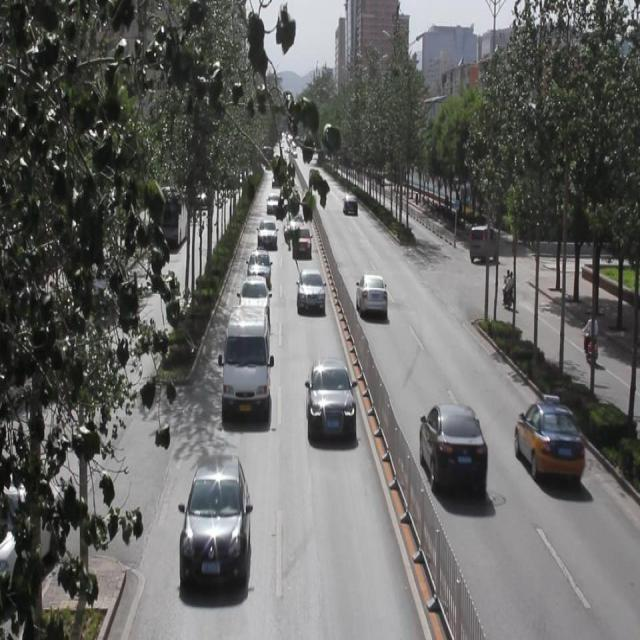car: (179, 454, 248, 588), (418, 401, 484, 496), (511, 400, 579, 487), (304, 362, 352, 444), (355, 274, 386, 320), (239, 276, 268, 325), (294, 268, 322, 316), (246, 251, 270, 286), (255, 220, 275, 252), (291, 227, 310, 258), (285, 212, 303, 237)
truck: (222, 306, 270, 417)
